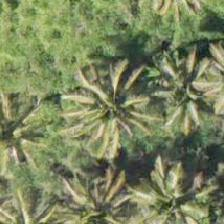Kelapa_Sawit: (72, 70, 162, 160), (143, 57, 223, 148), (115, 155, 206, 223), (46, 173, 137, 223)
